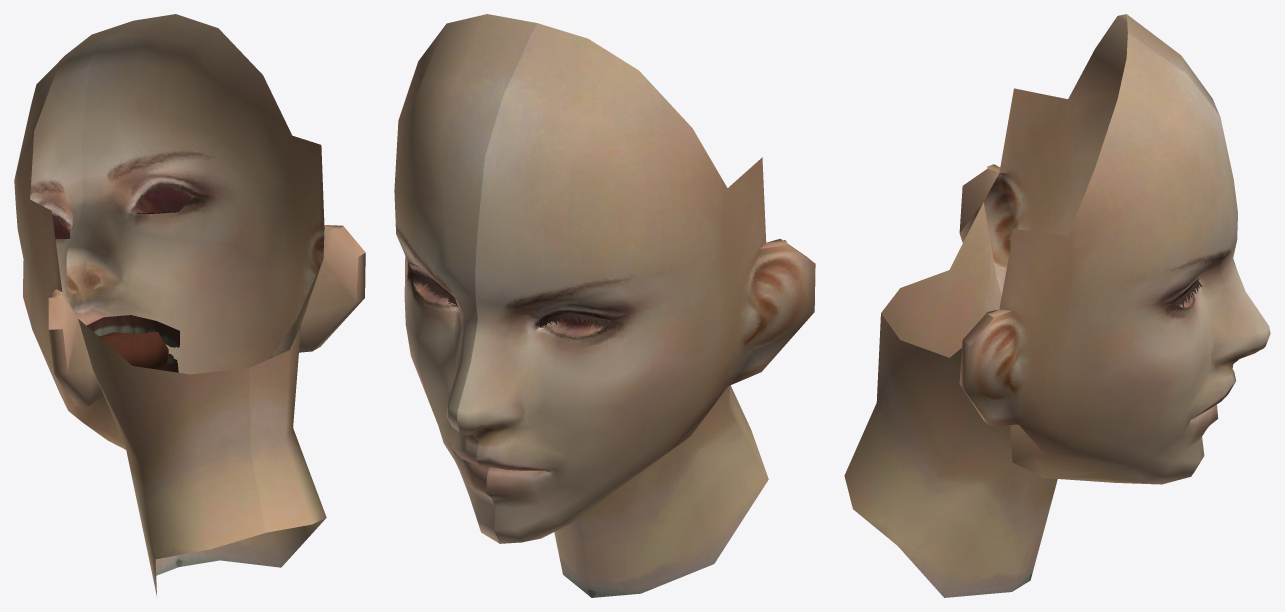
3 views of the same model, side by side, from view 1: azimuth 30°, elevation 25°; view 2: azimuth 150°, elevation 25°; view 3: azimuth 270°, elevation 25° (orthographic). The views are drawn at different scales.
Parts seen in each view (by area): view 1: m_head; view 2: m_head; view 3: m_head.
Boxes of the visible parts, box(x1,y1,x2,y2) form: m_head: box(14, 14, 365, 597); m_head: box(394, 14, 815, 597); m_head: box(844, 14, 1270, 597).
Bounding box in the file's own units: 15.19 × 23.5 × 16.56.
Materials: 1 (1 with a texture image).
